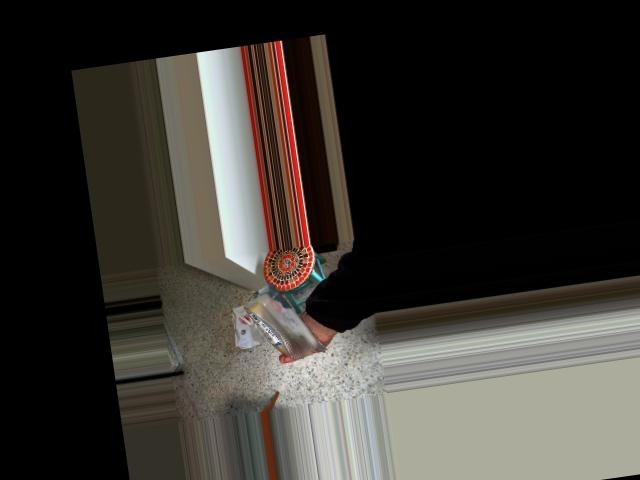cheese: (216, 254, 333, 376)
